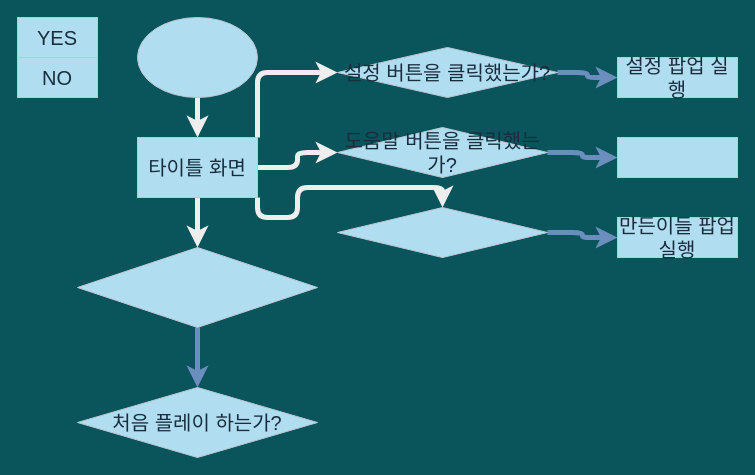
Some shapes in this 755 by 475 pixel diagram are drawn without their labels. Here are the shapes that lost their labels. From the top down, the box of each, then its label:
(136, 16, 258, 98): 게임실행
(616, 136, 738, 178): 도움말 팝업 실행
(336, 206, 548, 258): 만든이들 버튼을 클릭했는가>
(76, 246, 318, 328): 게임시작 버튼을 클릭했는가?
